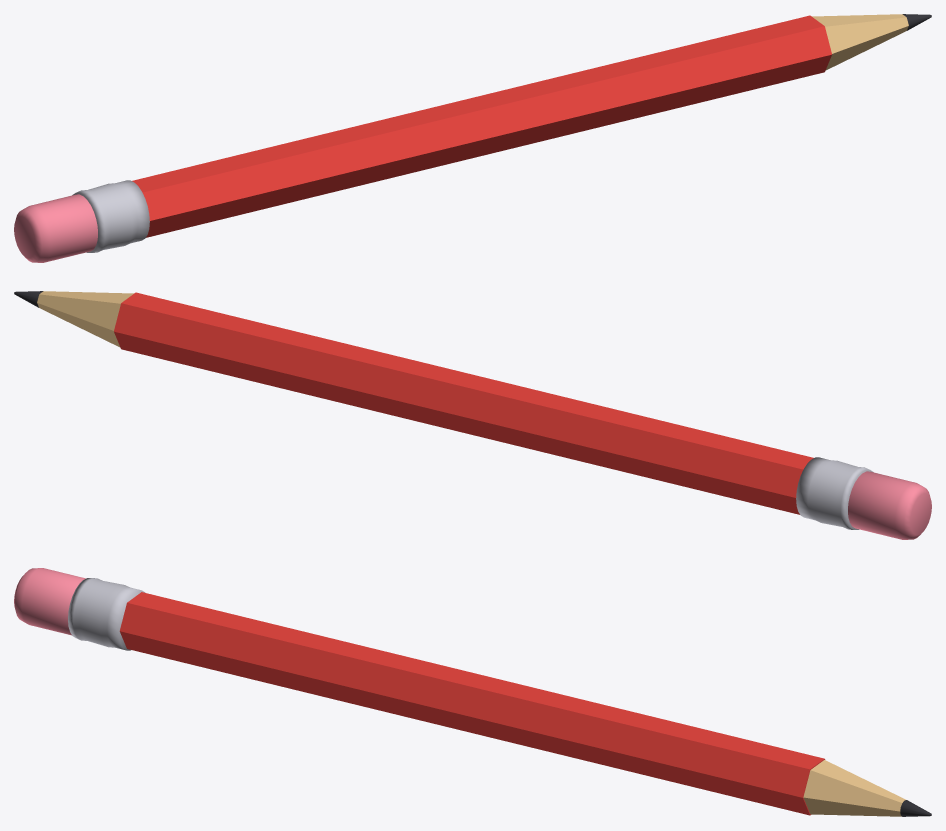
File: StampOutPencil.obj
3 views of the same model, one above another, from view 1: azimuth 30°, elevation 25°; view 2: azimuth 150°, elevation 25°; view 3: azimuth 330°, elevation 25° (orthographic).
Visible parts, largest first — view 1: Body, Eraser, Ferrule, Wood; view 2: Body, Eraser, Ferrule, Wood; view 3: Body, Wood, Ferrule, Eraser.
Part boxes in pixels (bbox=[...]): Body: bbox=[132, 15, 831, 237]; Eraser: bbox=[14, 194, 97, 262]; Ferrule: bbox=[72, 180, 149, 252]; Wood: bbox=[812, 14, 908, 70]; Body: bbox=[114, 292, 813, 514]; Eraser: bbox=[848, 471, 931, 539]; Ferrule: bbox=[796, 457, 873, 529]; Wood: bbox=[37, 291, 133, 347]; Body: bbox=[119, 592, 825, 815]; Wood: bbox=[803, 760, 905, 816]; Ferrule: bbox=[68, 578, 145, 650]; Eraser: bbox=[14, 568, 85, 635].
Bounding box in the file's own units: 92.7 × 5.7 × 5.7.
